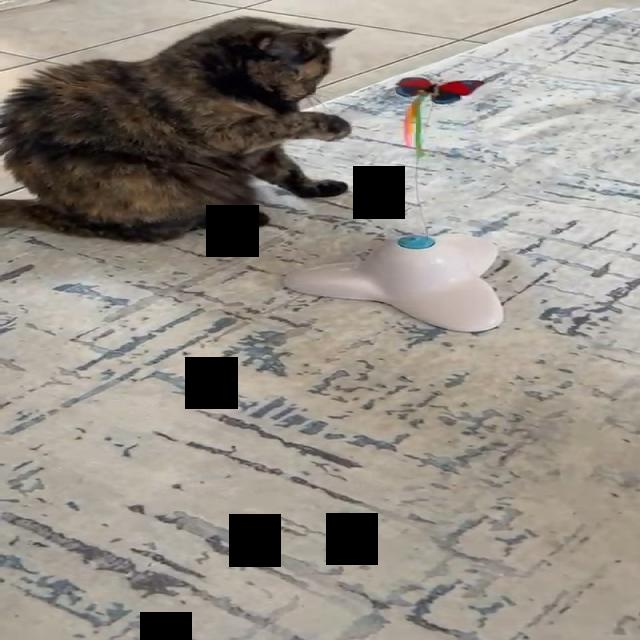authorized: (0, 15, 355, 243)
